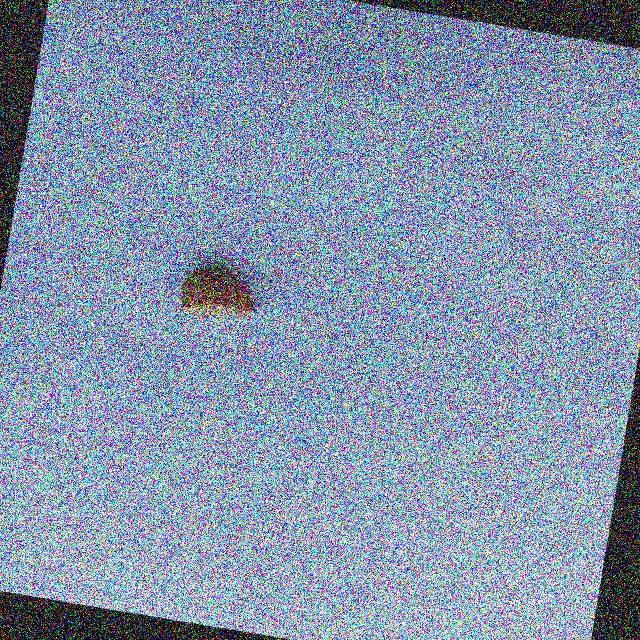grade4: (171, 254, 271, 331)
